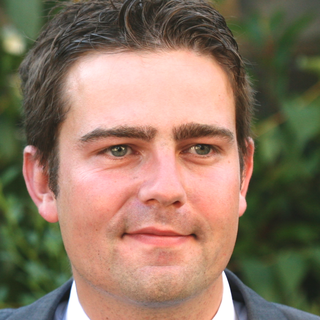eye: (179, 139, 227, 164), (95, 140, 141, 162)
